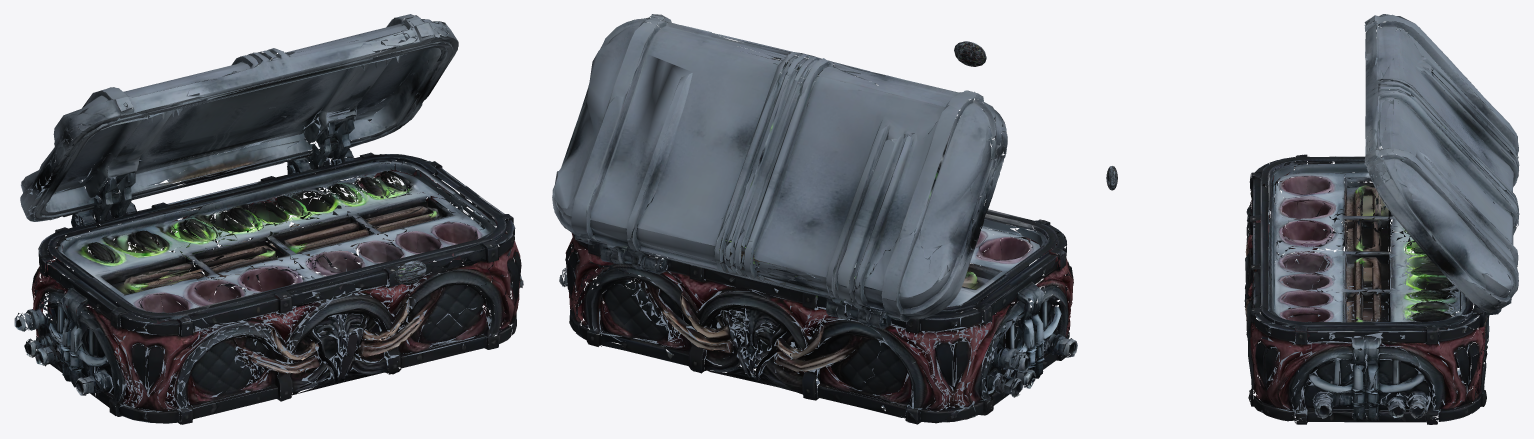
File: hazard_beneficiary_seed_warmer.glb
3 renders of one model, left to right at view 1: azimuth 30°, elevation 25°; view 2: azimuth 150°, elevation 25°; view 3: azimuth 270°, elevation 25°, orthographic. The views are drawn at different scales.
Parts seen in each view (by area): view 1: node_0, HB_PULSE_00; view 2: node_0, HB_PULSE_00; view 3: node_0.
Part boxes in pixels (x1=…): node_0: x1=14, y1=14, x2=523, y2=424; HB_PULSE_00: x1=395, y1=260, x2=426, y2=285; node_0: x1=552, y1=14, x2=1077, y2=424; HB_PULSE_00: x1=954, y1=41, x2=986, y2=66; node_0: x1=1244, y1=14, x2=1519, y2=424.
Bounding box in the file's own units: 1.04 × 0.6158 × 0.9089.
1 material, 1 textured.
